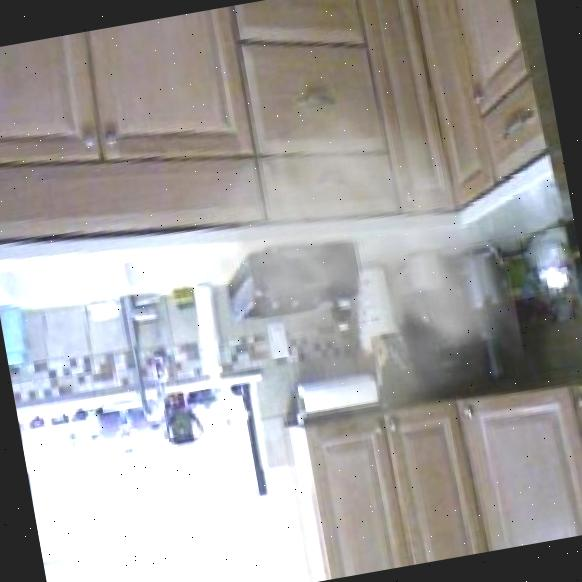smoke: (200, 80, 530, 405)
